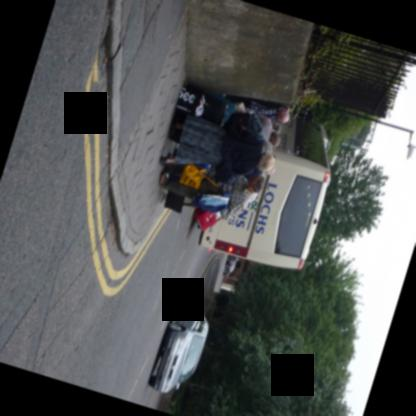handbag: (210, 158, 255, 187), (177, 162, 219, 188), (162, 187, 191, 214), (191, 209, 220, 232), (222, 110, 249, 131)
suitcase: (185, 85, 225, 125)
